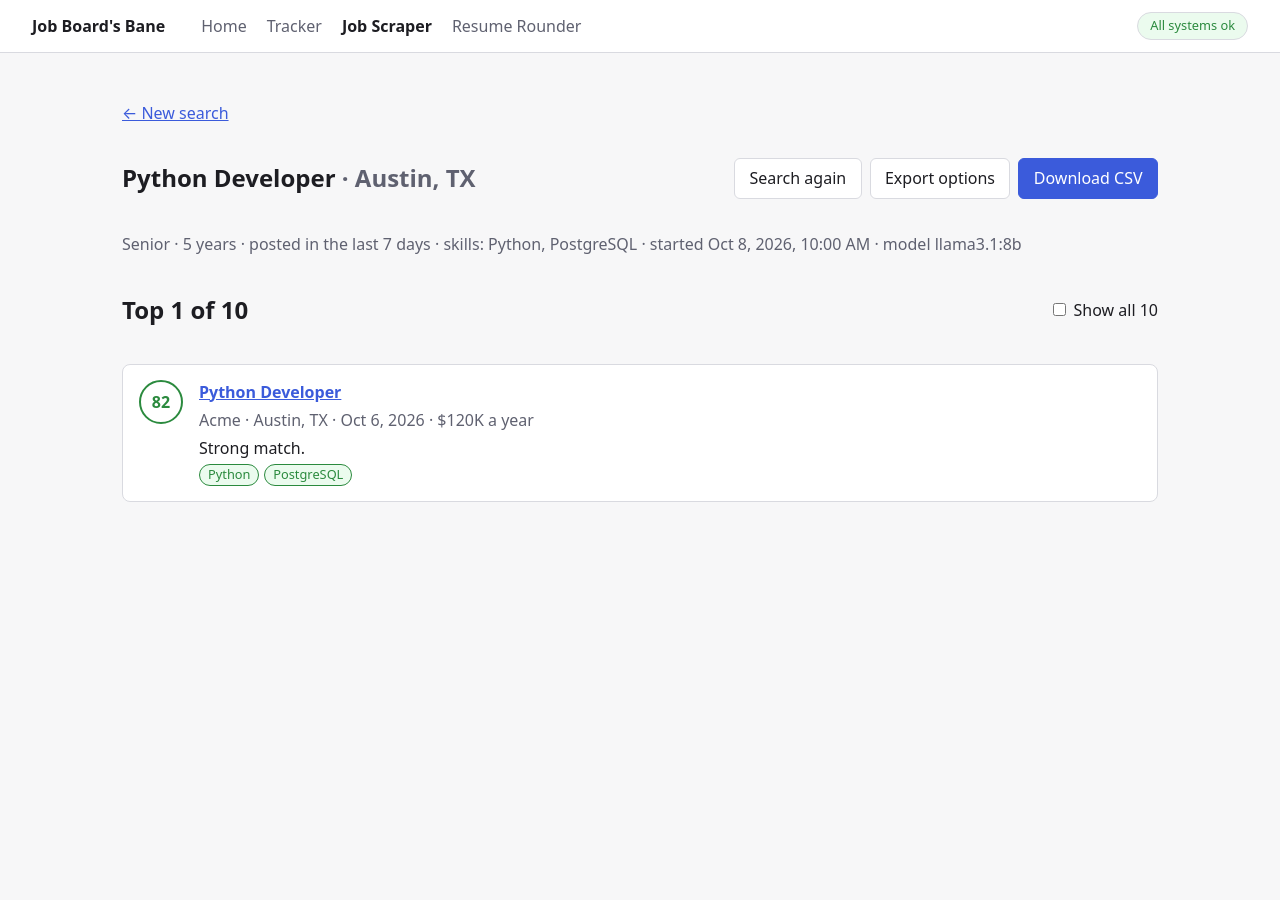
Scenario: RunPage › shows all postings when asked
Expected: the heading "Python Developer · Austin, TX" is shown, [122,160,476,196]
Step 1. Click the checkbox labelled "Show all 10" → click(1060, 310), box [1053,303,1066,316]
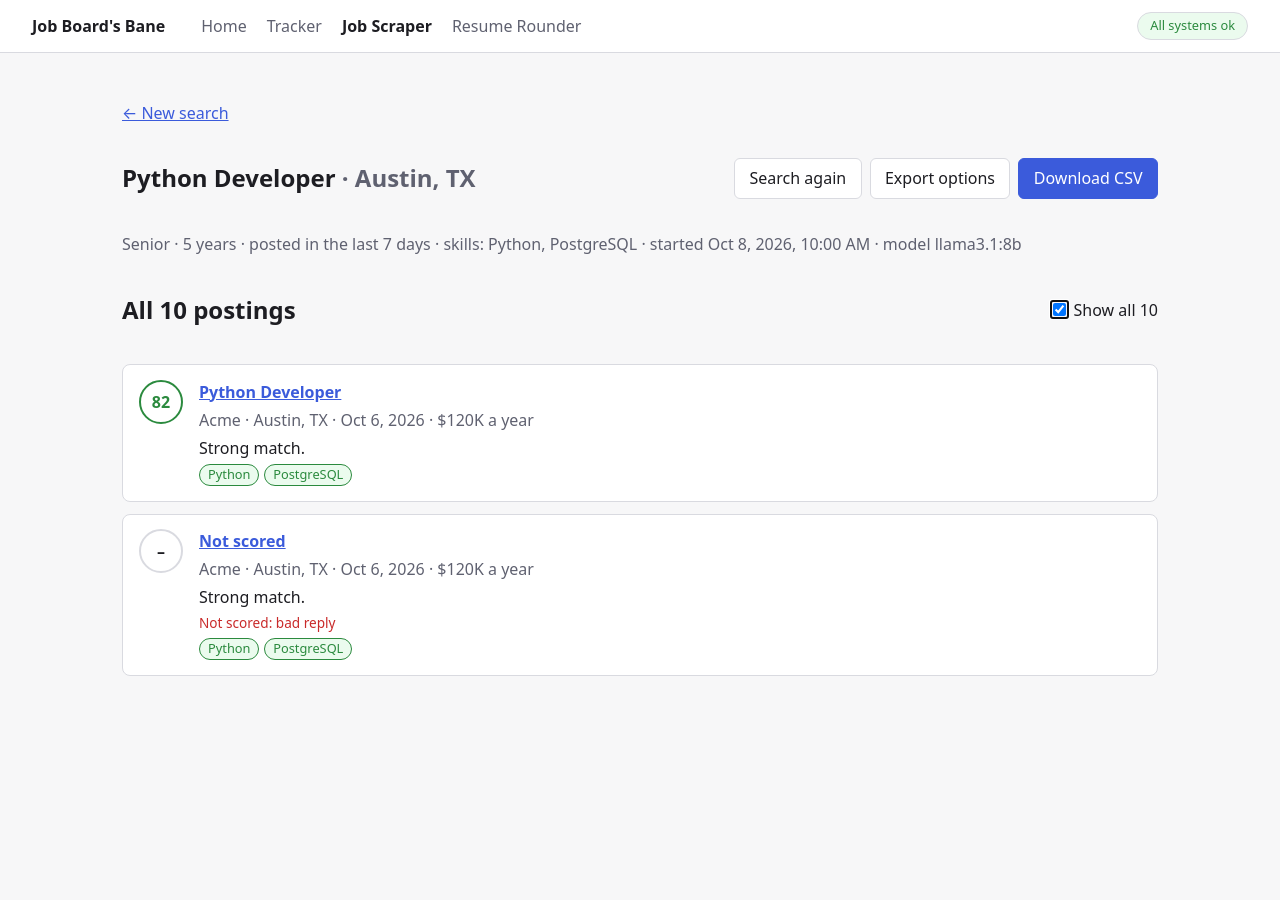
Expected: the heading "All 10 postings" is shown, [122,292,296,328]
Expected: the text "Not scored: bad reply" is shown, [199,613,336,632]
